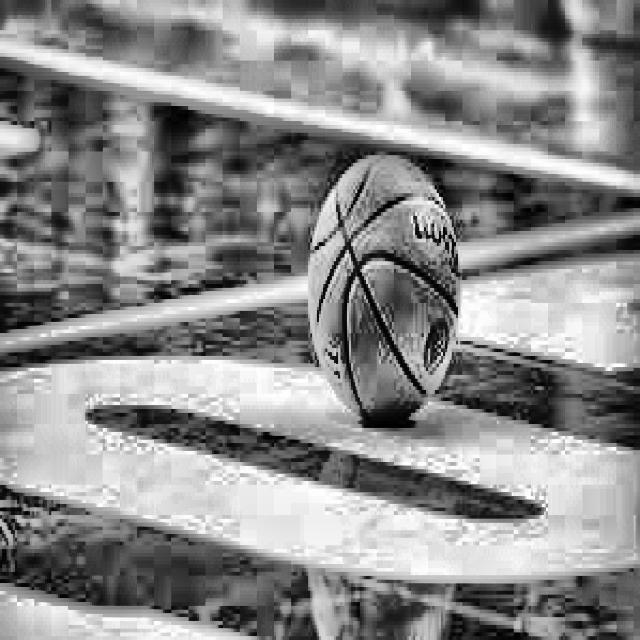Basketball: (308, 155, 462, 424)
